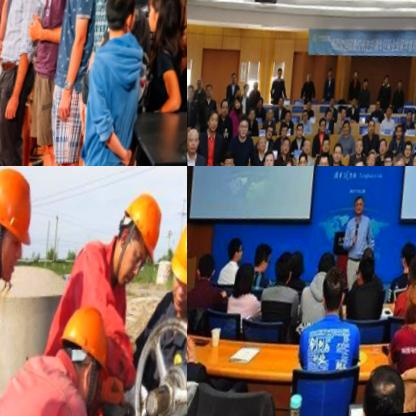head: (353, 361, 404, 416), (99, 0, 143, 45), (139, 0, 177, 46), (316, 267, 346, 317), (349, 252, 376, 296), (228, 261, 255, 299), (161, 0, 187, 38), (397, 280, 416, 331), (269, 251, 293, 290), (310, 249, 334, 287), (220, 232, 243, 267), (249, 241, 271, 277), (191, 251, 214, 283), (393, 246, 415, 277), (285, 248, 303, 280), (402, 258, 416, 293), (101, 0, 141, 12), (234, 114, 249, 142), (187, 125, 200, 155), (349, 197, 364, 218), (203, 110, 217, 132), (328, 143, 341, 166), (259, 149, 274, 166), (253, 134, 265, 155), (351, 140, 363, 160), (278, 139, 290, 158), (299, 139, 311, 158), (218, 152, 234, 166), (217, 99, 228, 119), (294, 152, 307, 166), (193, 74, 203, 92), (314, 154, 329, 166), (262, 127, 273, 143), (363, 153, 376, 166), (376, 142, 385, 160), (202, 82, 212, 98), (319, 141, 329, 157), (364, 123, 374, 139), (379, 154, 392, 166), (392, 127, 401, 144), (402, 145, 411, 162), (277, 125, 287, 140), (293, 126, 303, 141), (339, 124, 349, 139), (389, 156, 404, 166), (245, 107, 254, 123), (231, 96, 240, 111), (322, 111, 331, 126), (316, 121, 325, 136), (227, 71, 236, 85), (263, 109, 272, 123), (277, 158, 292, 166), (338, 108, 346, 123), (381, 77, 389, 91), (232, 88, 241, 100), (241, 83, 249, 96), (303, 102, 311, 115), (382, 110, 390, 123), (187, 84, 193, 101), (407, 155, 416, 166), (282, 112, 290, 124), (348, 160, 364, 166), (404, 113, 412, 125), (300, 112, 307, 125), (327, 97, 334, 110), (275, 97, 282, 109), (373, 103, 379, 116), (255, 99, 262, 110), (275, 69, 282, 80), (349, 99, 356, 110), (360, 82, 367, 93), (251, 81, 257, 93), (350, 72, 357, 82), (304, 74, 310, 85), (325, 70, 331, 81), (396, 84, 402, 95)
helmet: (49, 298, 117, 409), (104, 184, 169, 288), (0, 166, 45, 291), (159, 216, 187, 323)
